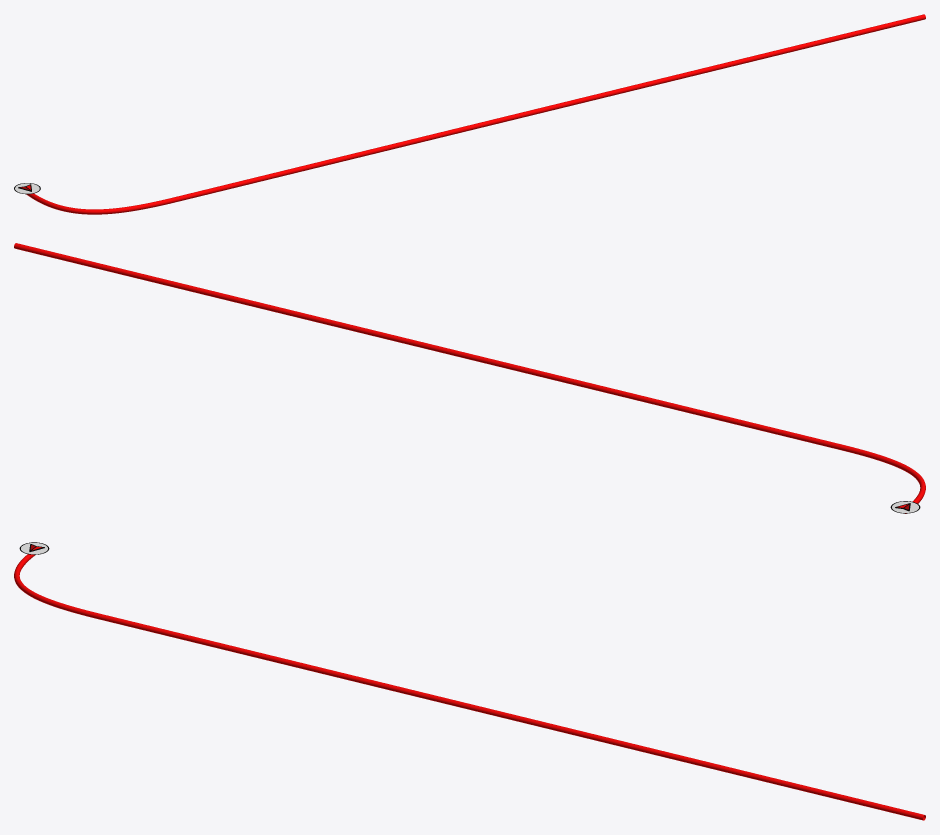
File: route_6c5b5729-01fc-4939-9fa3-37fd1a2626e5_de_target.glb
3 views of the same model, one above another, from view 1: azimuth 30°, elevation 25°; view 2: azimuth 150°, elevation 25°; view 3: azimuth 330°, elevation 25° (orthographic). The views are drawn at different scales.
Visible parts, largest first — view 1: Station 6; view 2: Station 6; view 3: Station 6.
Boxes of the visible parts, x1,y1,x2,y2 form: Station 6: [26, 14, 925, 214]; Station 6: [14, 243, 925, 513]; Station 6: [14, 554, 925, 820].
Size of the model in its own units: 15.16 by 0.1086 by 1.61.
